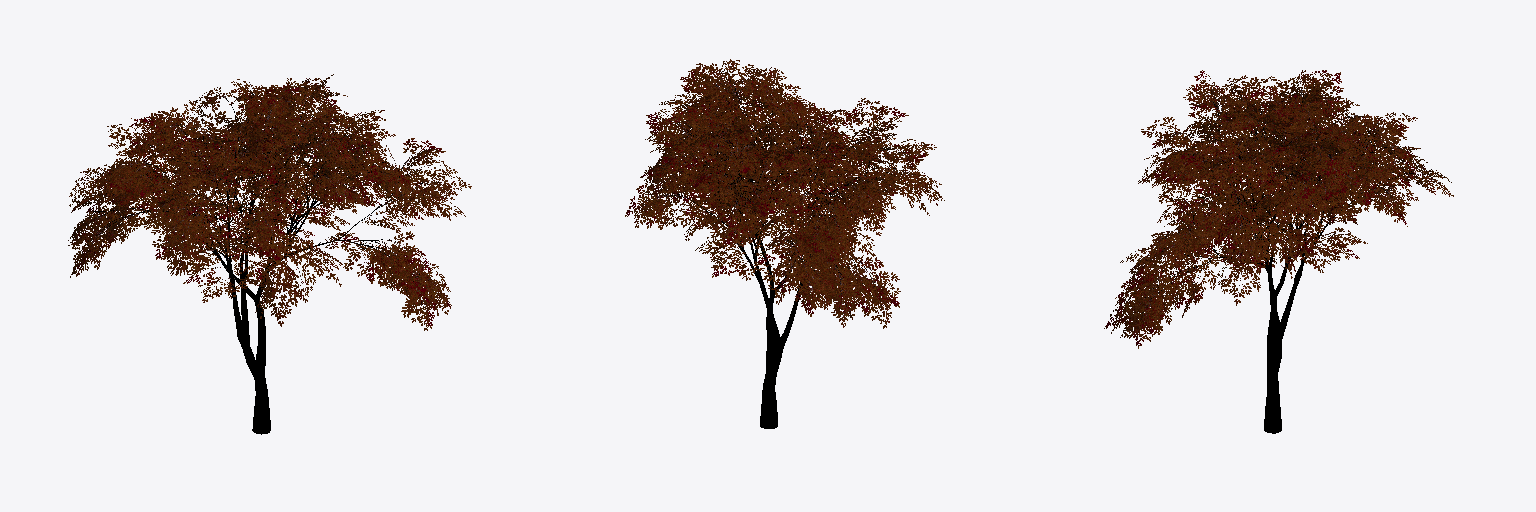
3 renders of one model, left to right at view 1: azimuth 30°, elevation 25°; view 2: azimuth 150°, elevation 25°; view 3: azimuth 270°, elevation 25°, orthographic.
Parts seen in each view (by area): view 1: Tree; view 2: Tree; view 3: Tree.
Boxes of the visible parts, box(x1,y1,x2,y2) form: Tree: box(68, 74, 471, 434); Tree: box(625, 59, 944, 428); Tree: box(1104, 70, 1453, 433).
Size of the model in its own units: 3.63 by 3.82 by 3.55.
2 materials, 1 textured.